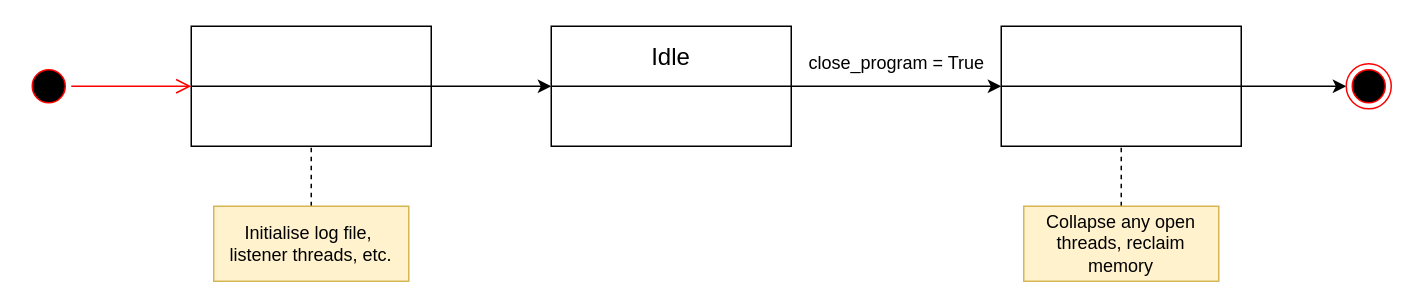
Some shapes in this 1418 by 308 pixel diagram are drawn without their labels. The shapes that lost their labels are listed below. From the top down, each one's centre as x and y in pixels, then its label:
At pixel 310 85: "Initialisation".
At pixel 1120 85: "Close".
